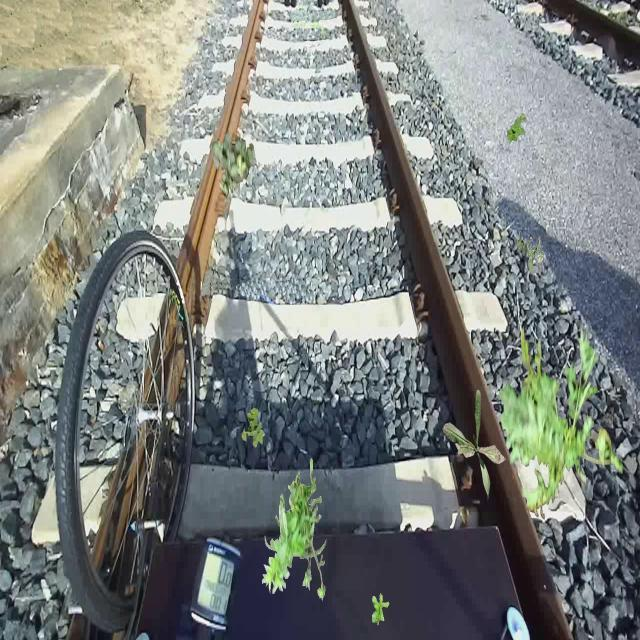Plant: (498, 324, 623, 520), (262, 458, 326, 602), (442, 390, 506, 502), (212, 130, 256, 196), (517, 232, 544, 273), (242, 407, 266, 448), (507, 113, 526, 146), (372, 593, 390, 625)
